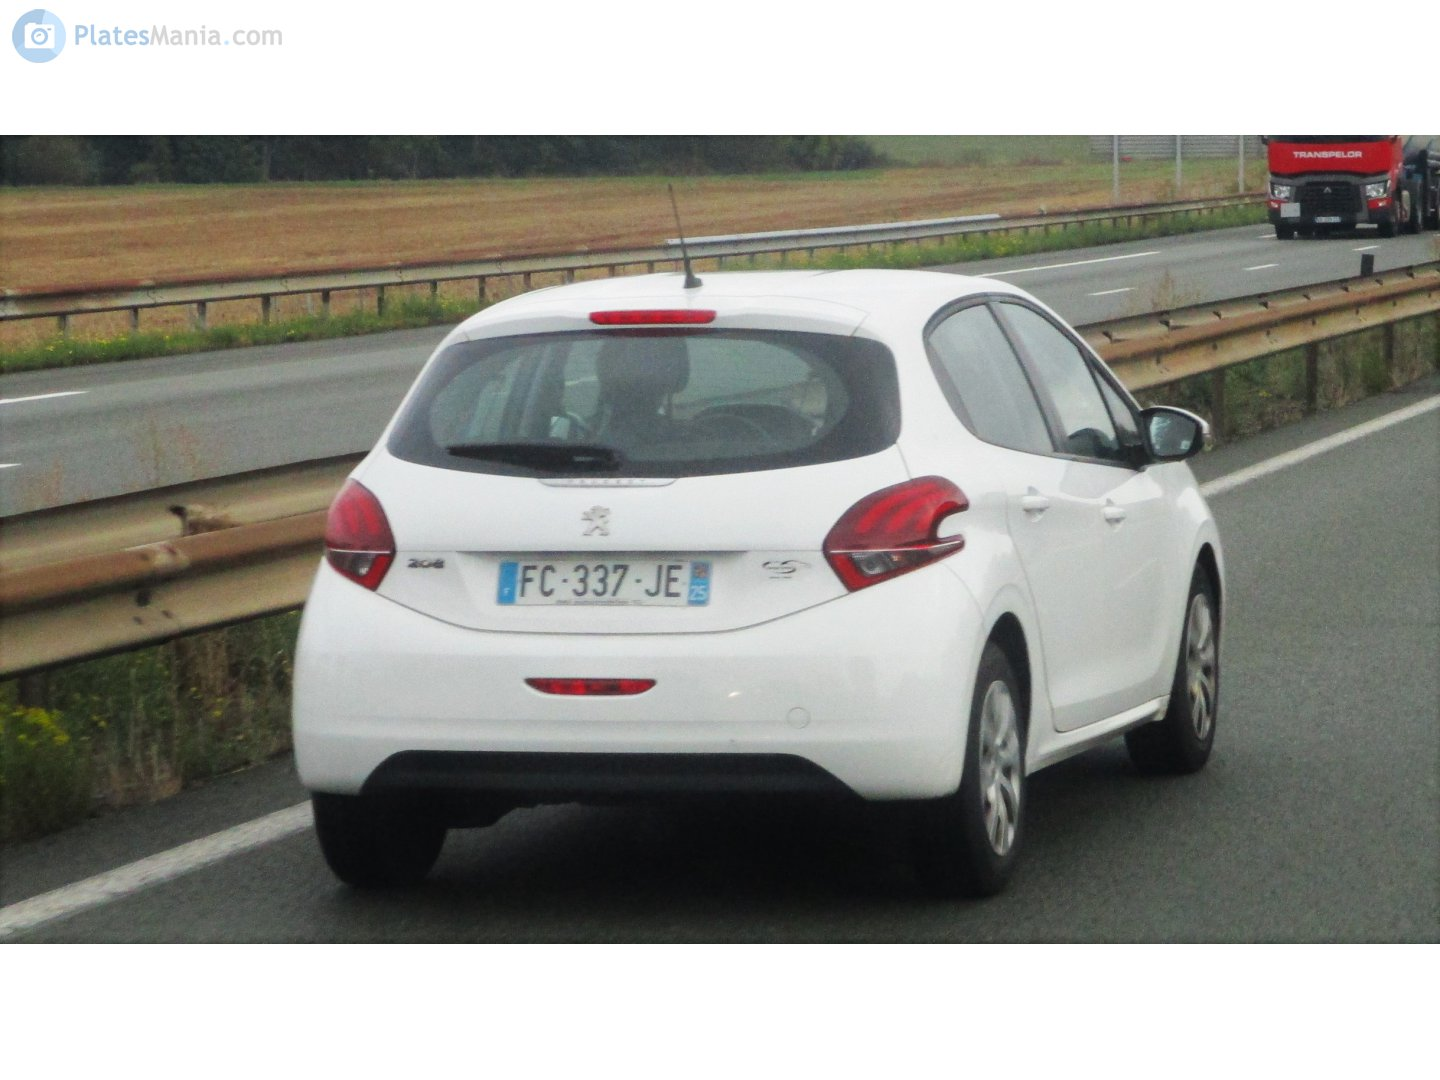licence plate: (490, 555, 722, 609)
